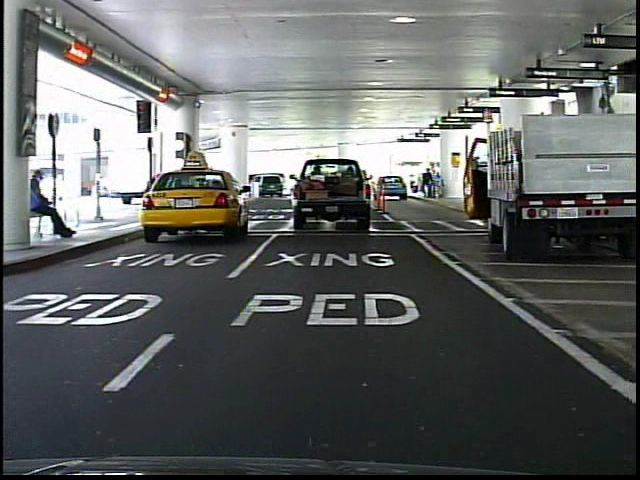person: (33, 165, 83, 244), (143, 166, 165, 220)
